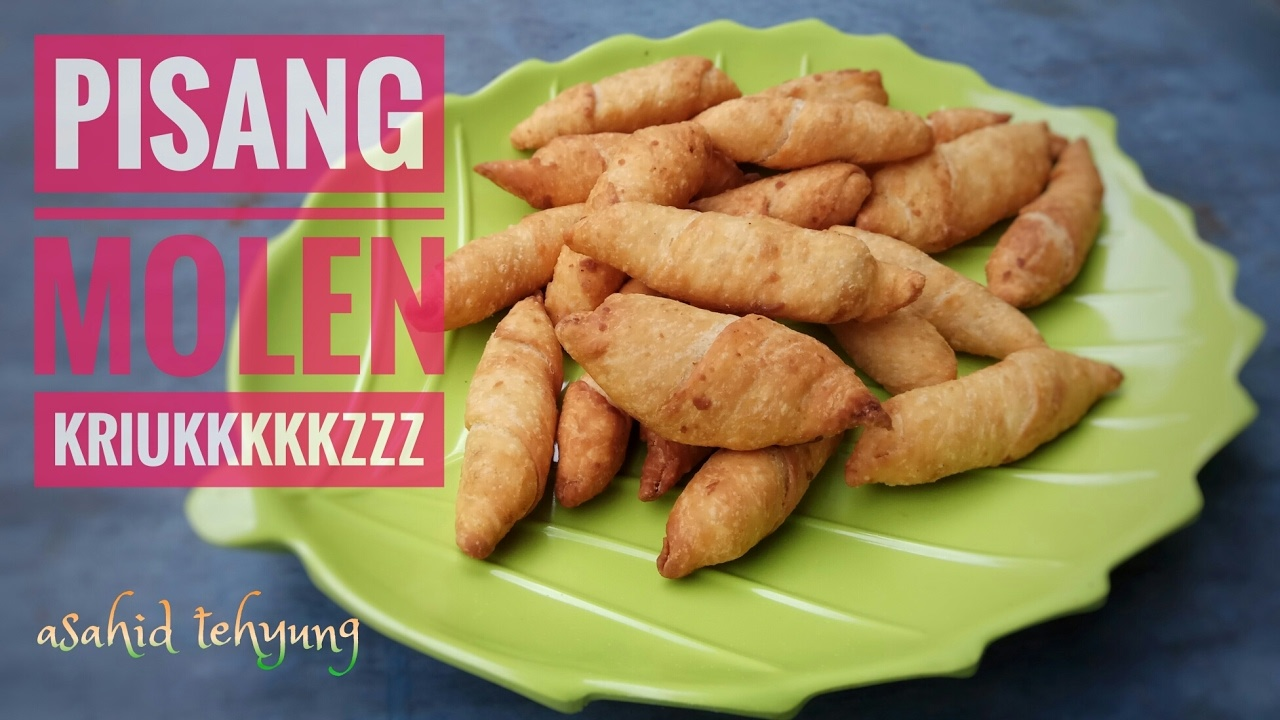pisang_molen: (552, 292, 896, 454), (561, 199, 923, 328), (851, 349, 1130, 494), (454, 296, 553, 558), (509, 57, 753, 147), (691, 94, 941, 168), (997, 135, 1108, 296)
